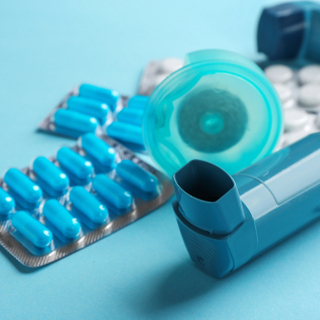Medicine: (161, 128, 320, 276)
